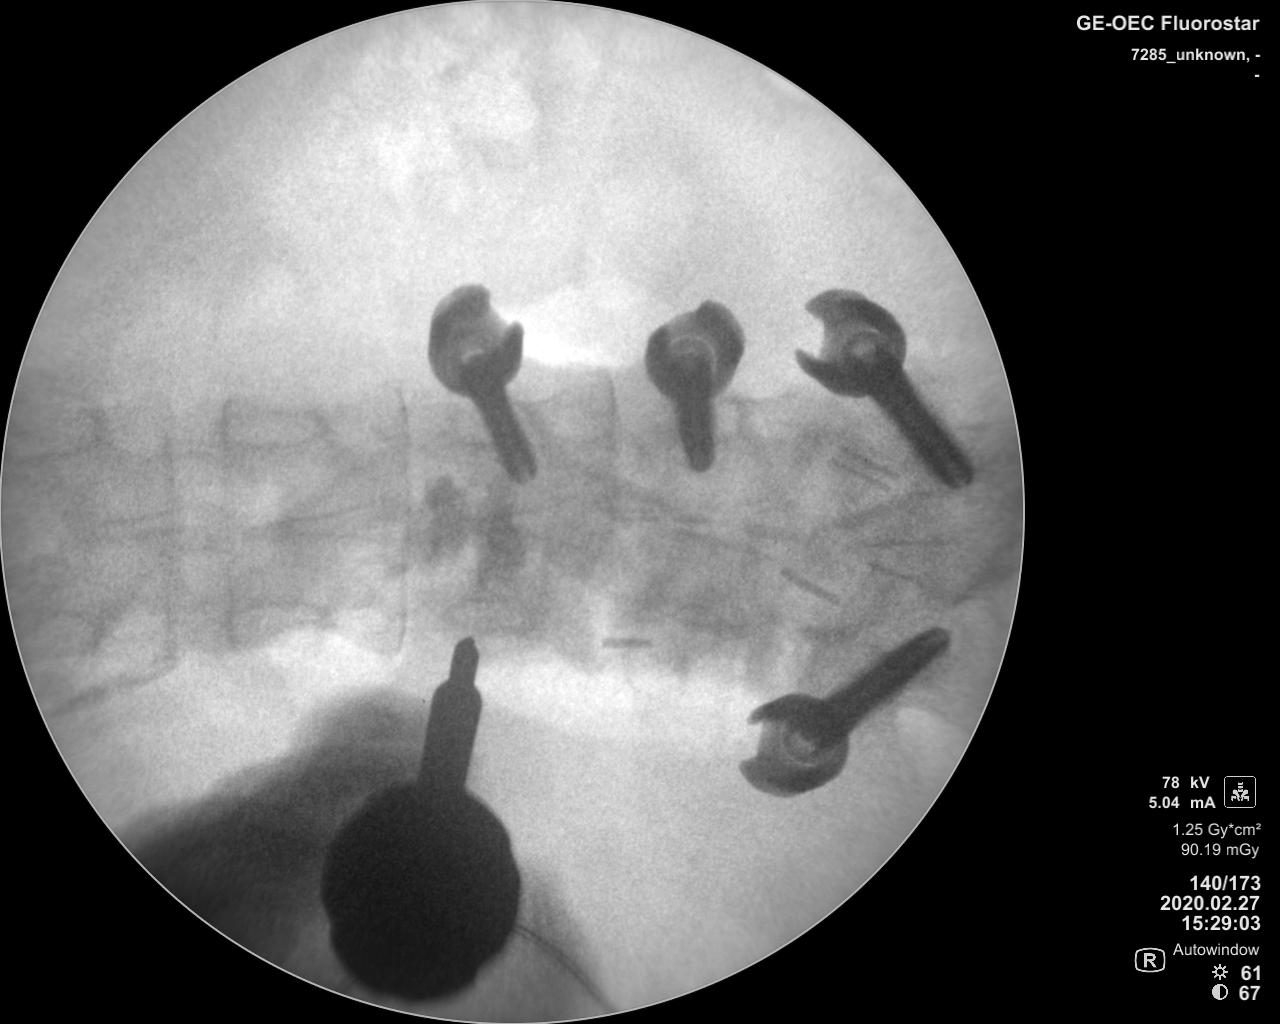eyes: (222, 401, 329, 453), (10, 395, 97, 455), (224, 598, 322, 650), (17, 606, 101, 661), (444, 594, 530, 639)
line: (387, 383, 413, 661), (155, 415, 182, 679), (214, 395, 238, 658)
nose: (267, 494, 427, 551), (464, 501, 621, 554), (82, 503, 216, 557)
